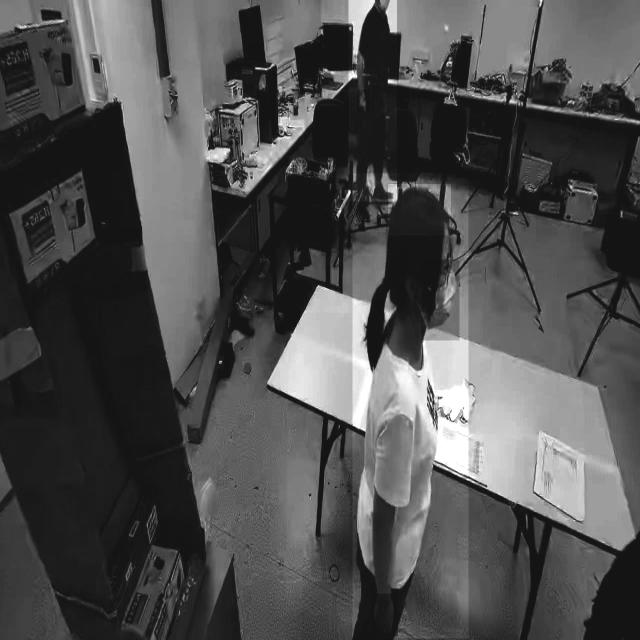face_mask: (422, 260, 459, 340)
hand_noglove: (371, 594, 398, 637), (357, 90, 369, 113)
head_nohelmet: (387, 184, 451, 236)
person: (352, 173, 468, 639), (348, 0, 397, 202)
